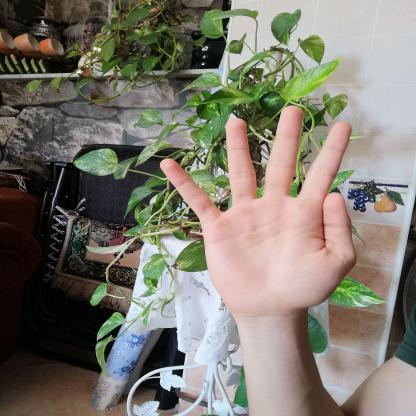SHEEN: (146, 99, 371, 326)
